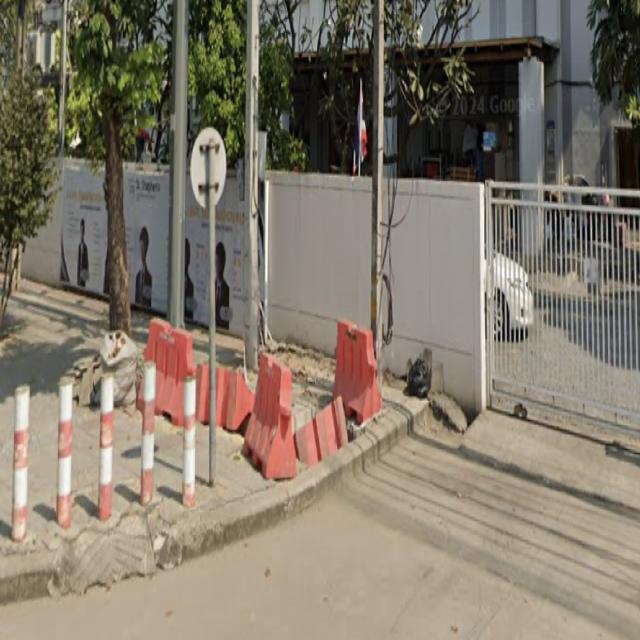fallen_object: (232, 330, 393, 483), (129, 317, 241, 435)
